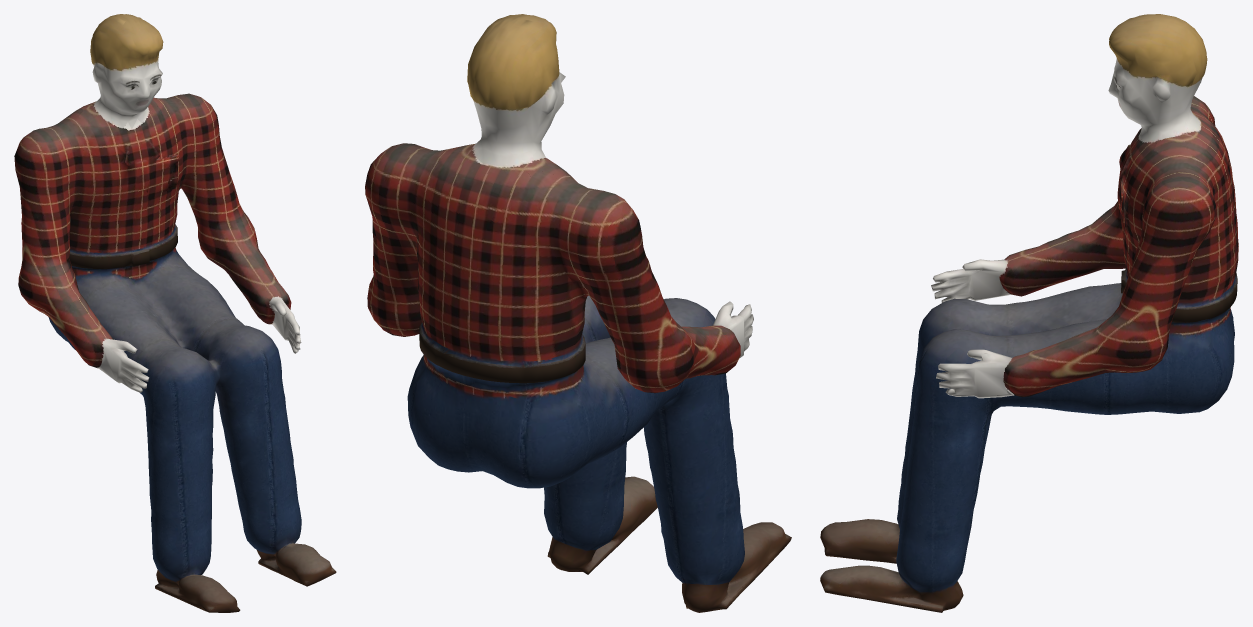
The model's file is mq_man_plaid_sit.glb.
3 renders of one model, left to right at view 1: azimuth 30°, elevation 25°; view 2: azimuth 150°, elevation 25°; view 3: azimuth 270°, elevation 25°, orthographic. The views are drawn at different scales.
Visible parts, largest first — view 1: mq_man_plaid_sit, mq_man_plaid_sit_head; view 2: mq_man_plaid_sit, mq_man_plaid_sit_head; view 3: mq_man_plaid_sit, mq_man_plaid_sit_head.
Boxes of the visible parts, box(x1,y1,x2,y2) form: mq_man_plaid_sit: box(14, 93, 336, 612); mq_man_plaid_sit_head: box(78, 14, 163, 129); mq_man_plaid_sit: box(365, 143, 791, 612); mq_man_plaid_sit_head: box(453, 14, 565, 175); mq_man_plaid_sit: box(820, 96, 1238, 612); mq_man_plaid_sit_head: box(1108, 14, 1207, 152).
Size of the model in its own units: 0.6586 by 1.35 by 0.8933.
Materials: 1 (1 with a texture image).
